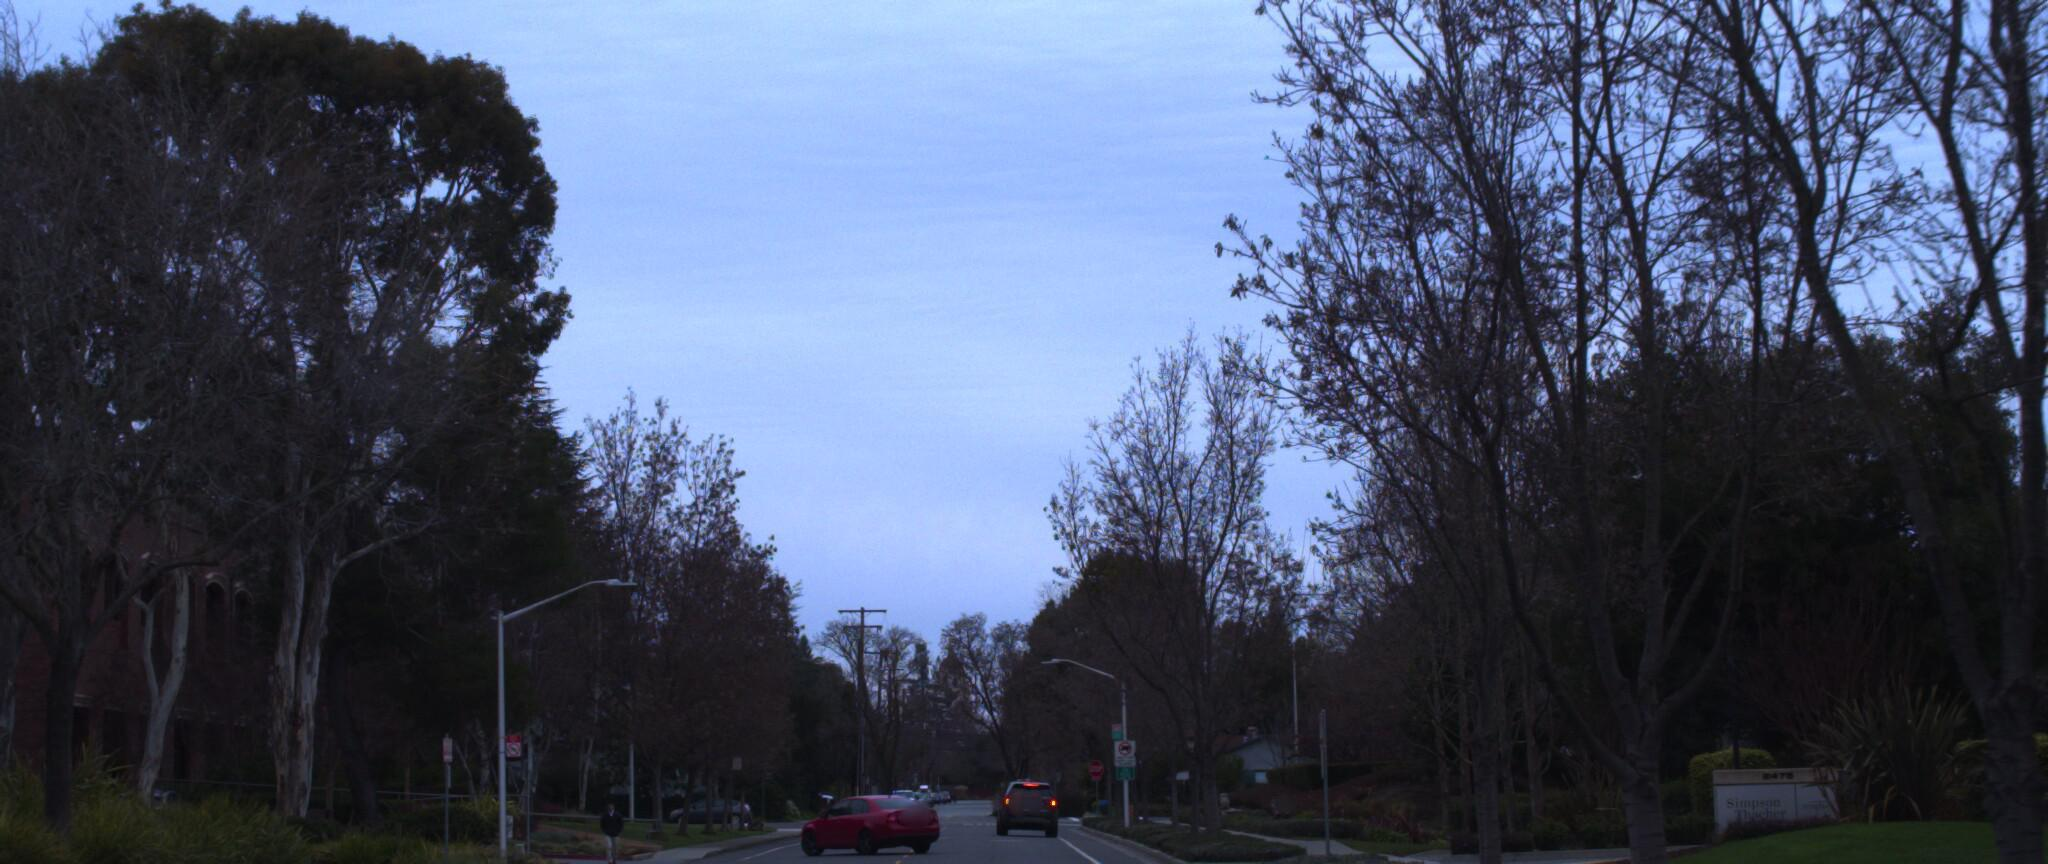car: (775, 787, 950, 857)
